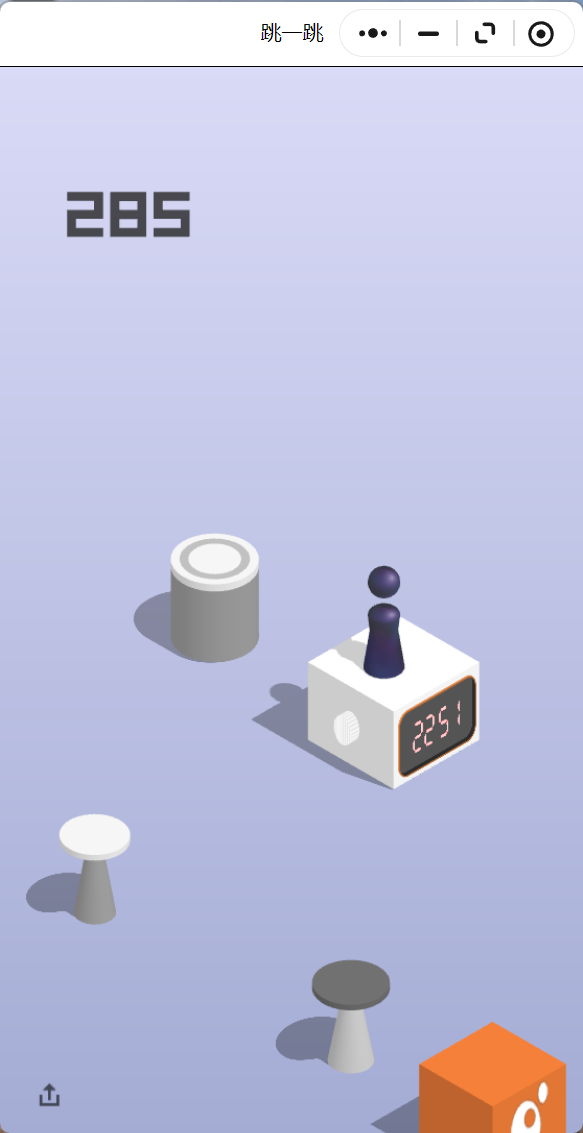piece: (368, 565, 400, 674)
target: (171, 533, 259, 585)
